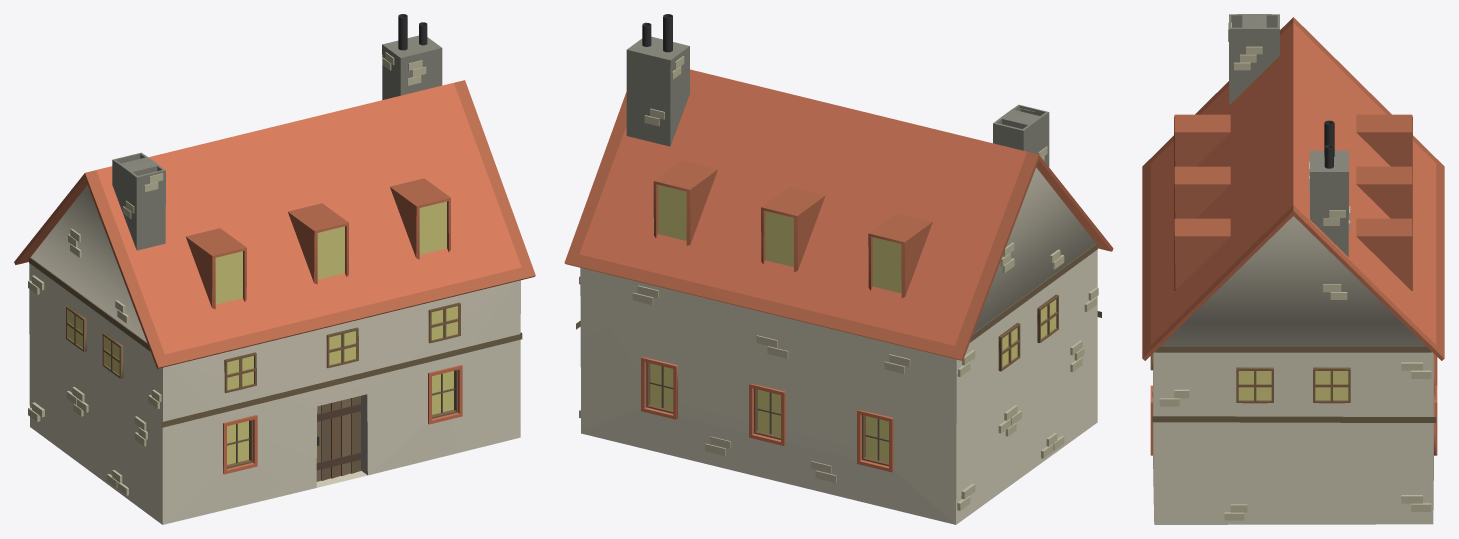
File: House_new11.fbx
The picture shows the model from 3 angles, left to right: view 1: azimuth 30°, elevation 25°; view 2: azimuth 150°, elevation 25°; view 3: azimuth 270°, elevation 25°; orthographic projection. The views are drawn at different scales.
Parts seen in each view (by area): view 1: House_9.002, Door; view 2: House_9.002; view 3: House_9.002.
Part boxes in pixels (x1=…): House_9.002: x1=14, y1=14, x2=535, y2=524; Door: x1=316, y1=396, x2=361, y2=481; House_9.002: x1=564, y1=14, x2=1113, y2=524; House_9.002: x1=1142, y1=14, x2=1444, y2=524.
Size of the model in its own units: 151 by 140 by 99.2.
